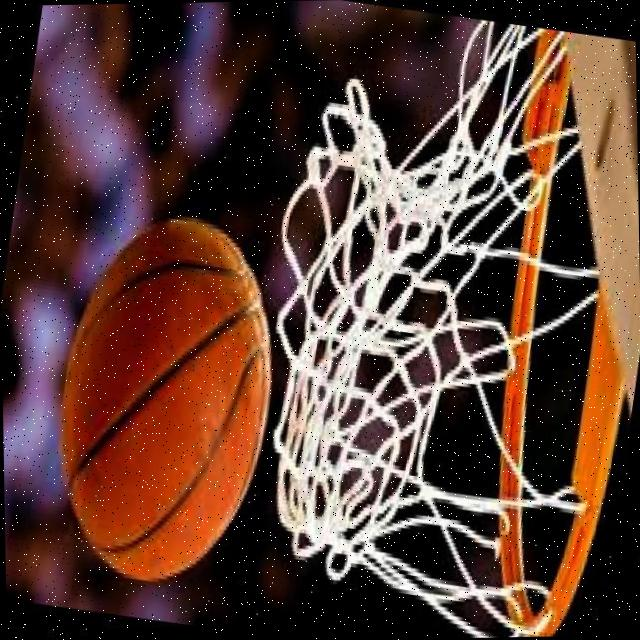ball: (31, 204, 298, 598)
